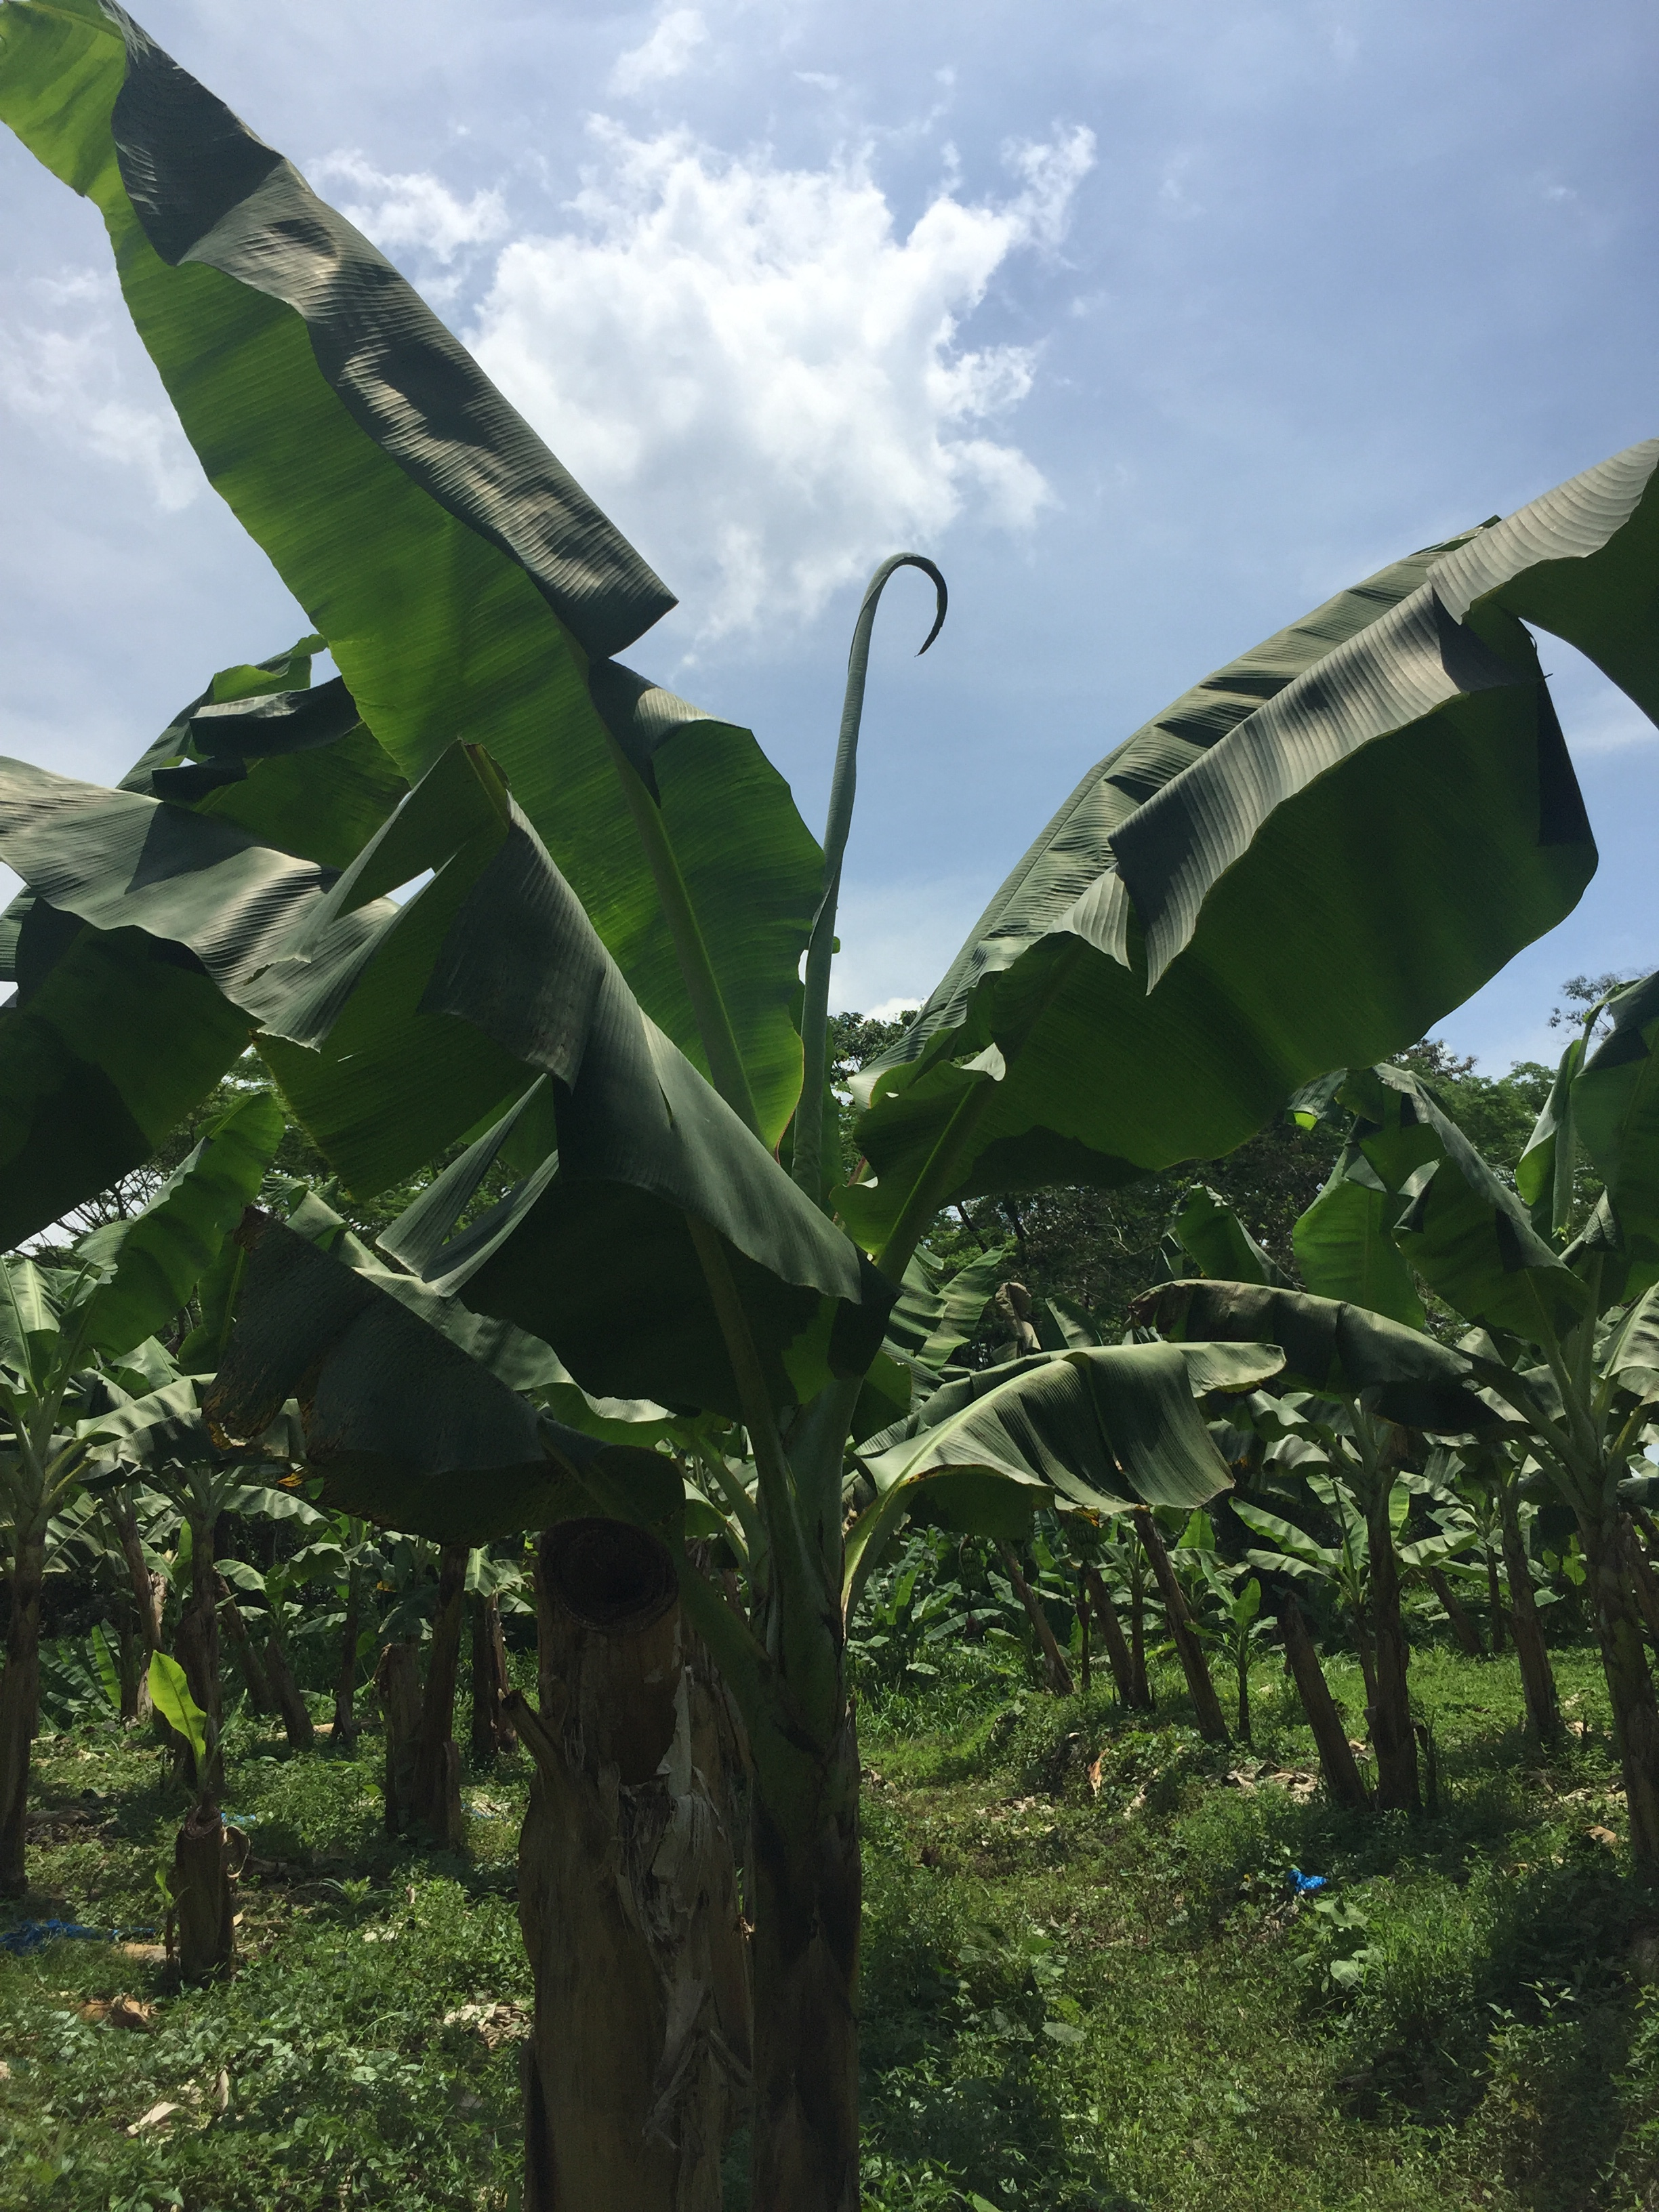candleleafs: (793, 550, 948, 1217)
